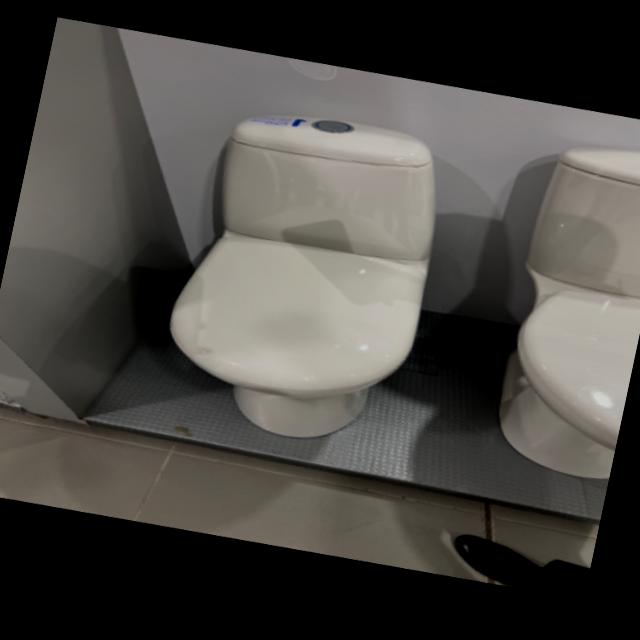toilet: (150, 91, 459, 464), (482, 132, 640, 490)
